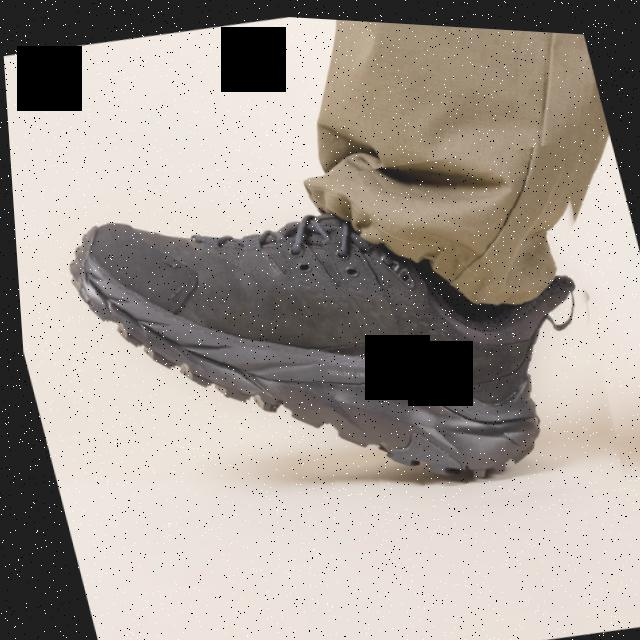shoe: (50, 183, 585, 498)
